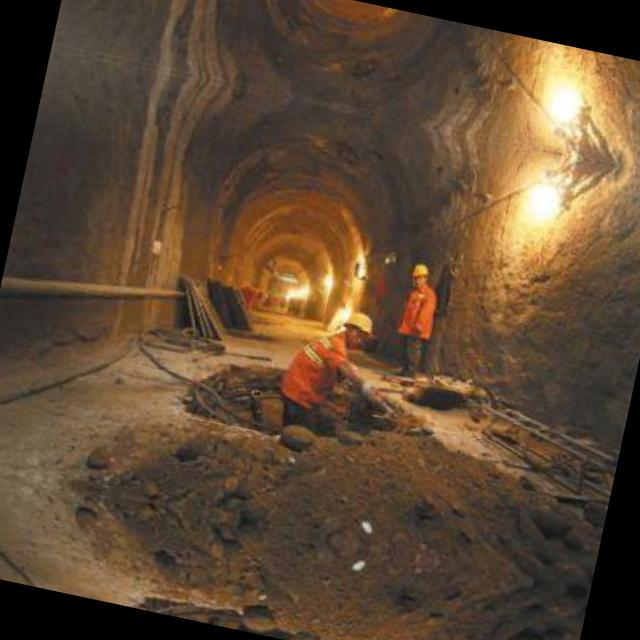helmet: (330, 302, 380, 353), (406, 256, 433, 291)
